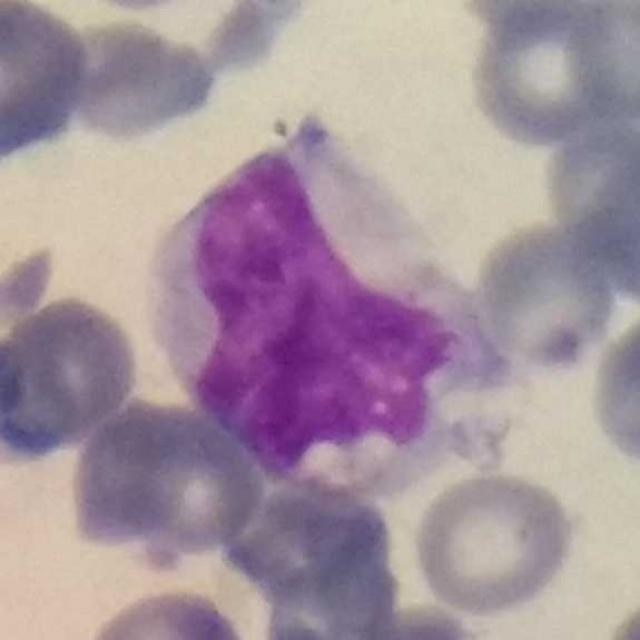mono: (132, 104, 526, 506)
